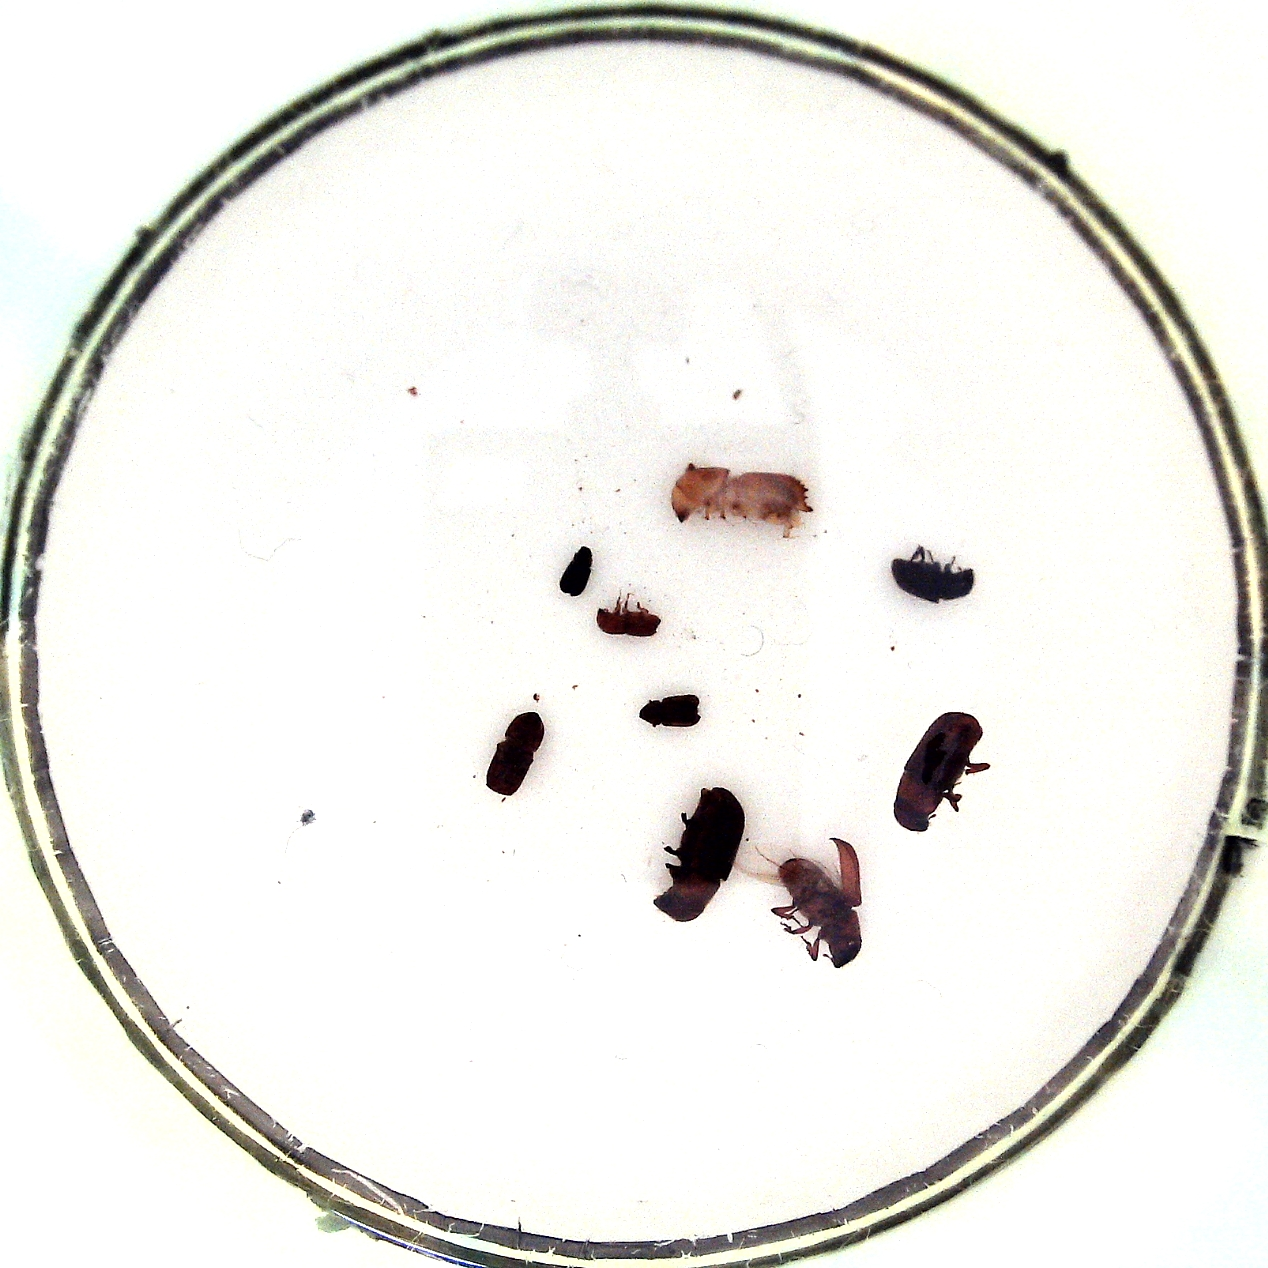Boerner: (672, 467, 812, 529)
Leconte: (653, 787, 745, 921), (894, 713, 984, 833), (779, 858, 862, 967)
acuminatus: (559, 545, 593, 597)
armandi: (889, 559, 975, 603)
coleoptera: (640, 694, 701, 727), (596, 608, 660, 636)
linnaeus: (487, 713, 545, 797)
